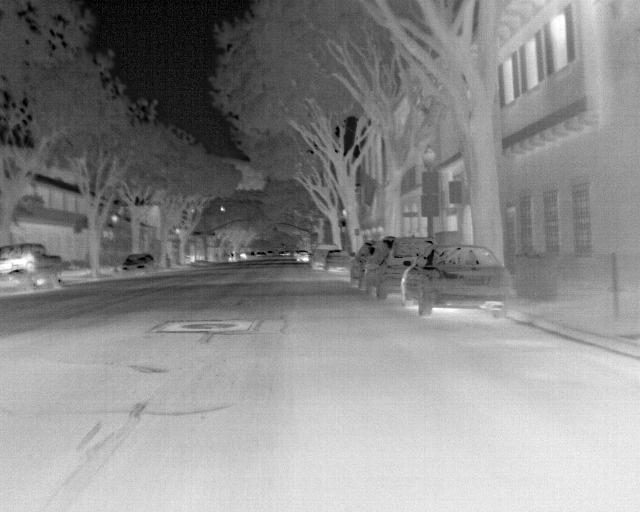bicycle: (396, 244, 514, 319), (376, 234, 436, 302), (2, 242, 66, 295), (350, 240, 378, 286), (118, 254, 157, 278), (308, 244, 337, 274), (328, 252, 354, 278), (293, 249, 308, 265)
